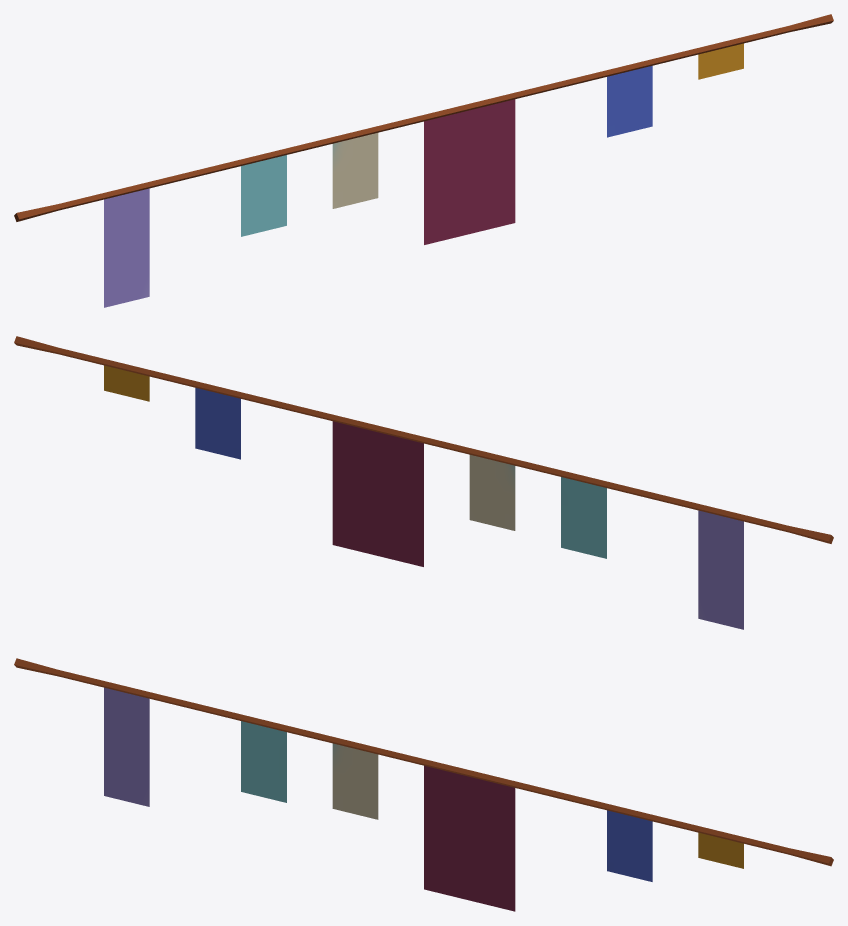
File: ClothesLineTest.fbx
3 views of the same model, one above another, from view 1: azimuth 30°, elevation 25°; view 2: azimuth 150°, elevation 25°; view 3: azimuth 330°, elevation 25° (orthographic).
Parts seen in each view (by area): view 1: Cylinder; view 2: Cylinder; view 3: Cylinder.
Part boxes in pixels (box(x1,y1,x2,y2)): Cylinder: box(14, 14, 833, 307); Cylinder: box(14, 336, 833, 629); Cylinder: box(14, 658, 833, 911).
Bounding box in the file's own units: 802 × 124 × 8.82.
